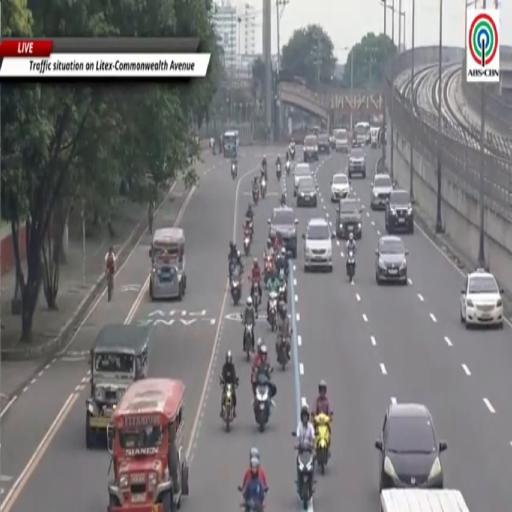car: (375, 403, 447, 490), (460, 269, 503, 328), (268, 206, 298, 259), (303, 218, 333, 271), (376, 235, 408, 284), (385, 189, 414, 234), (336, 199, 362, 238), (370, 173, 393, 210), (297, 176, 317, 206), (294, 163, 312, 196), (331, 173, 350, 201), (348, 149, 365, 179), (303, 135, 318, 162), (354, 122, 369, 147), (334, 128, 348, 153), (318, 134, 330, 154), (370, 126, 380, 148), (329, 135, 335, 150)
jeepney: (108, 378, 188, 511), (86, 325, 149, 449), (148, 227, 186, 300), (381, 488, 469, 511), (223, 131, 238, 157)
motorcycle: (254, 373, 272, 431), (314, 413, 331, 474), (297, 450, 314, 509), (221, 377, 233, 431), (276, 335, 289, 370), (230, 274, 241, 306), (268, 292, 277, 331), (251, 281, 260, 314), (244, 324, 252, 361), (346, 250, 355, 282), (264, 255, 274, 282), (240, 500, 264, 511), (241, 501, 263, 511), (243, 228, 251, 255), (245, 218, 253, 241), (279, 282, 287, 303), (253, 186, 260, 205), (261, 178, 266, 199), (289, 146, 296, 160), (231, 164, 237, 179), (280, 192, 286, 206), (276, 167, 281, 181), (262, 163, 267, 177), (286, 162, 290, 176), (276, 164, 281, 175)
